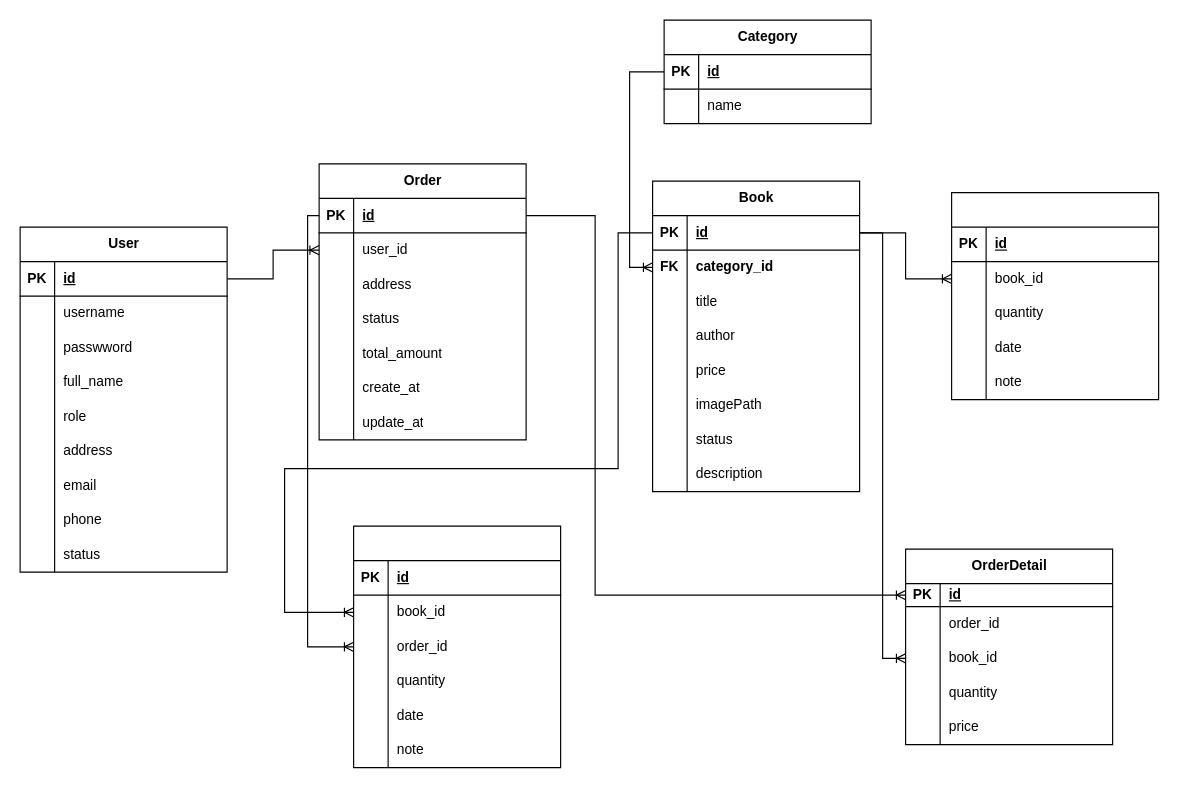
The diagram is 1179 pixels wide and 788 high, and some of its shapes have lost their labels. The box of each missing label's shape, as (x1, y1, x2, y2) in pixels:
StockIn: (950, 191, 1159, 400)
StockOut: (352, 525, 561, 768)
